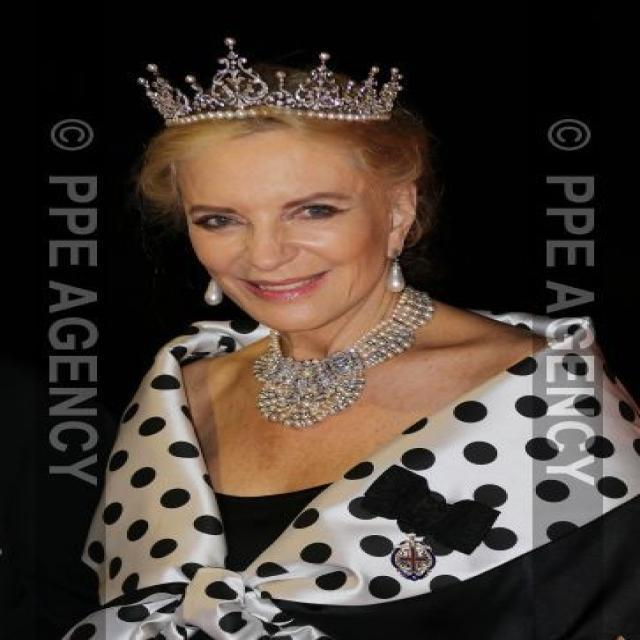Earring: (187, 263, 227, 315), (378, 254, 419, 302)
